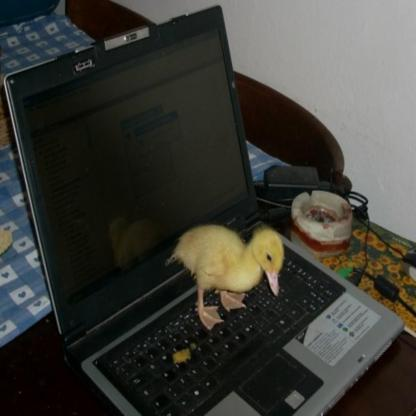board: (7, 3, 404, 416)
